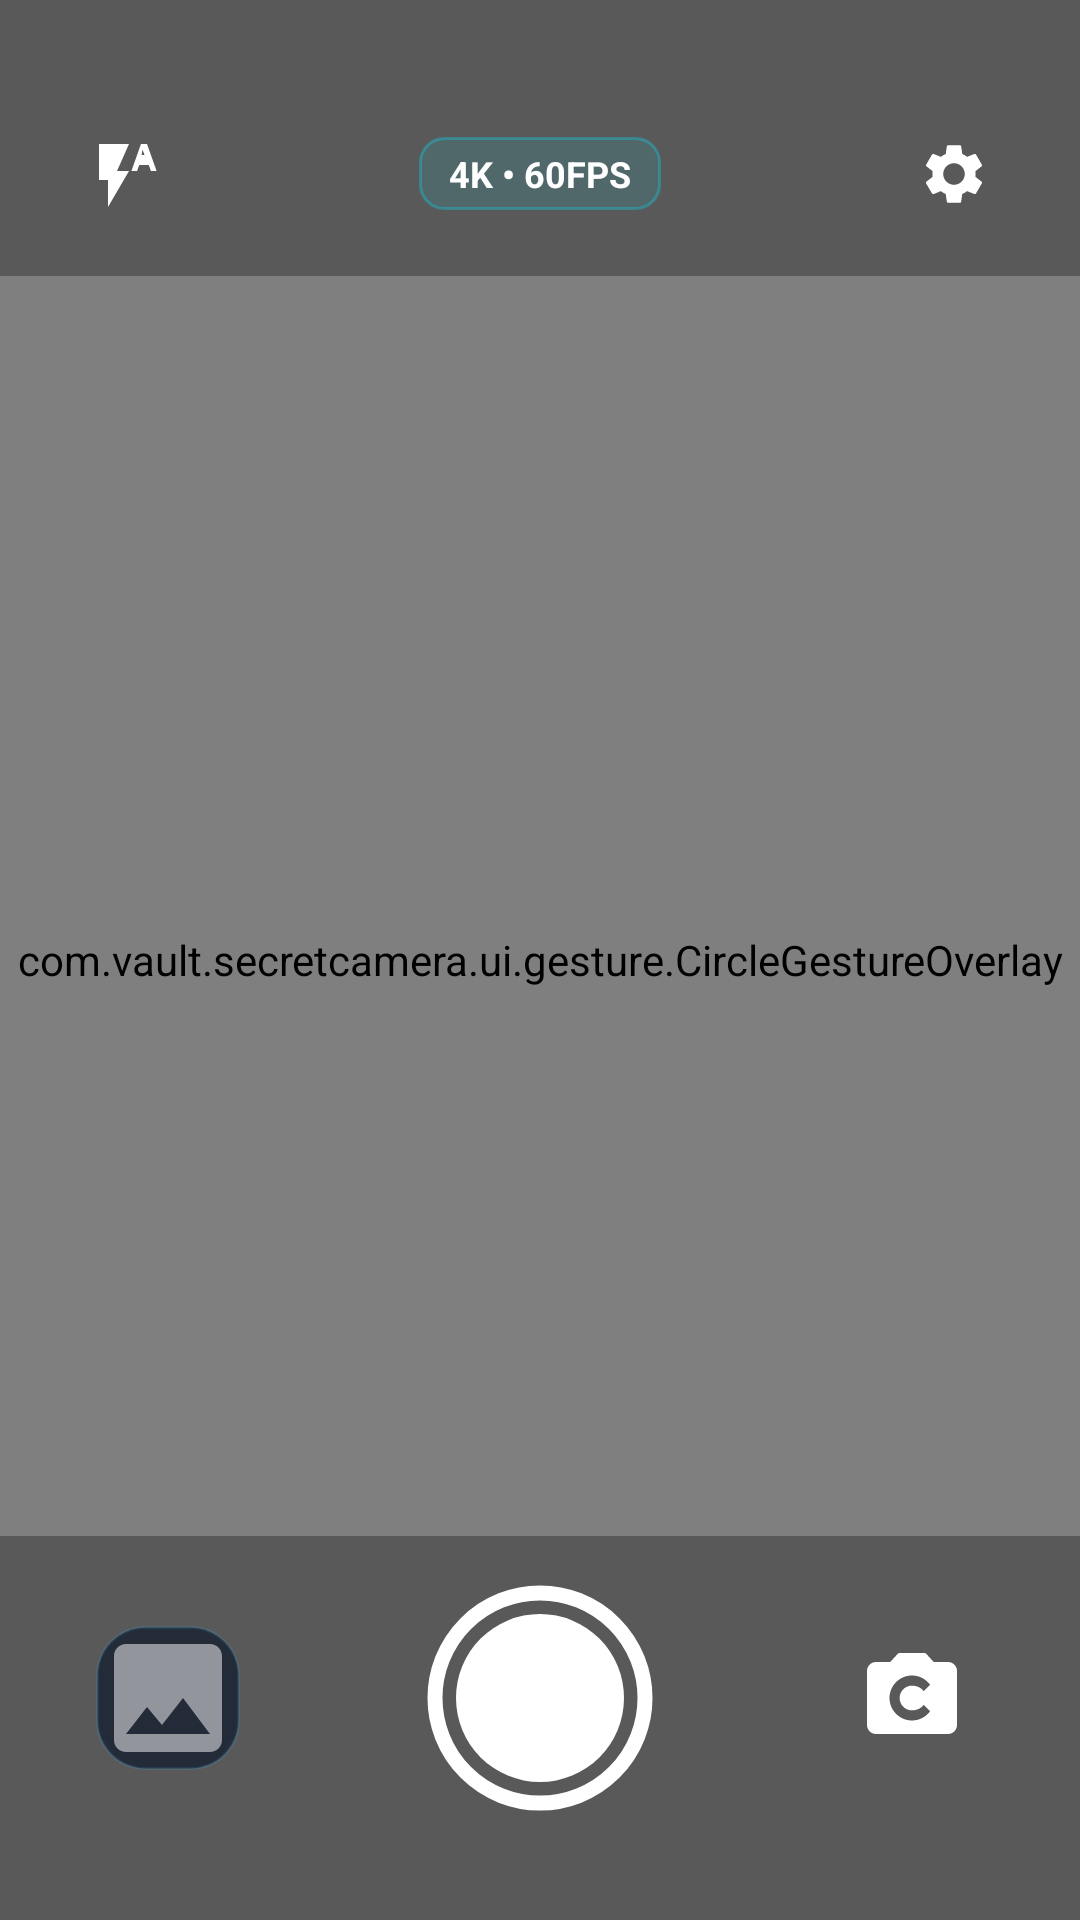

Screen size 1080px×1920px. Icon name, then its center in pixels as (x=x, y=y):
Gallery: (x=168, y=1698)
إعدادات الكاميرا: (x=954, y=174)
التقاط: (x=540, y=1698)
الفلاش: (x=128, y=175)
